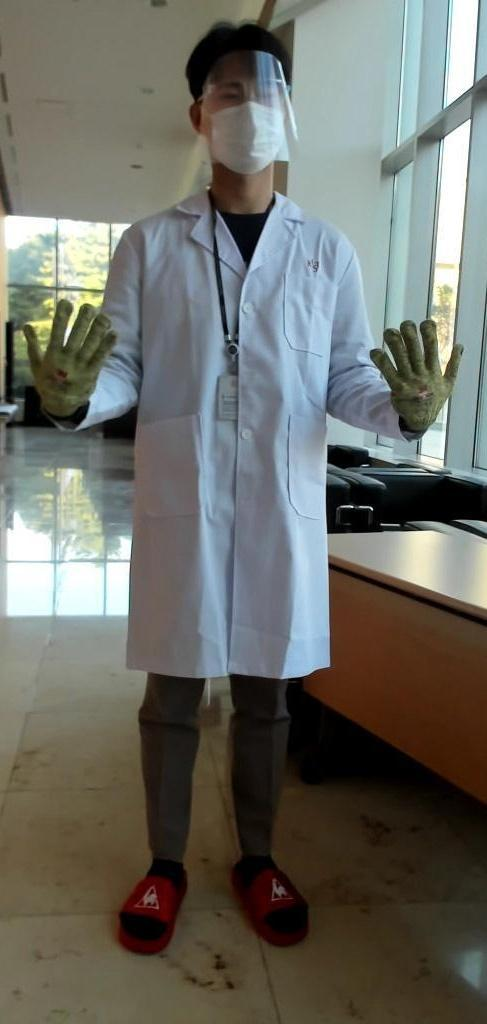lab_coat: (112, 228, 357, 683)
